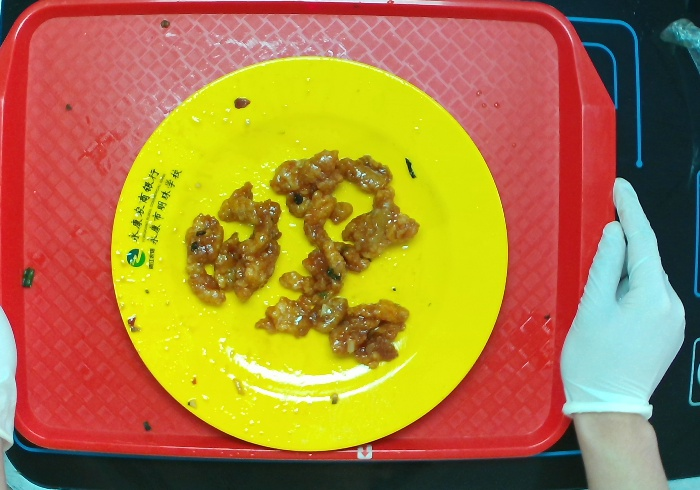YKMZ-Huang_Se_Mian_Pan: (110, 56, 510, 456)
